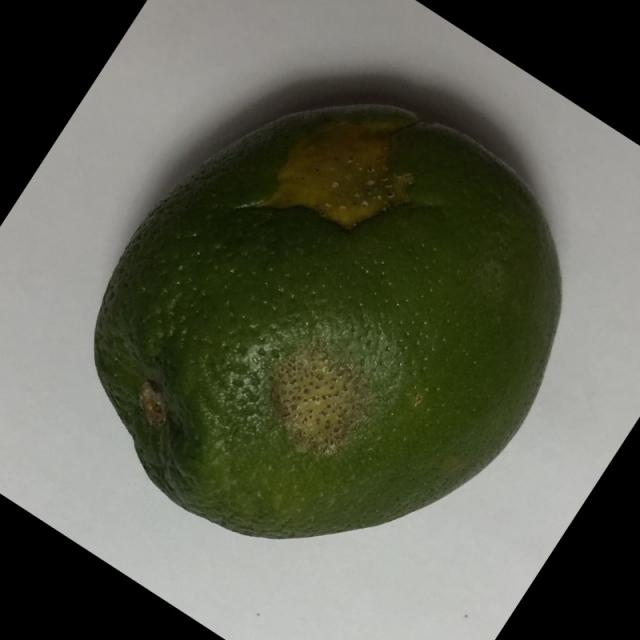canker: (80, 80, 583, 549)
